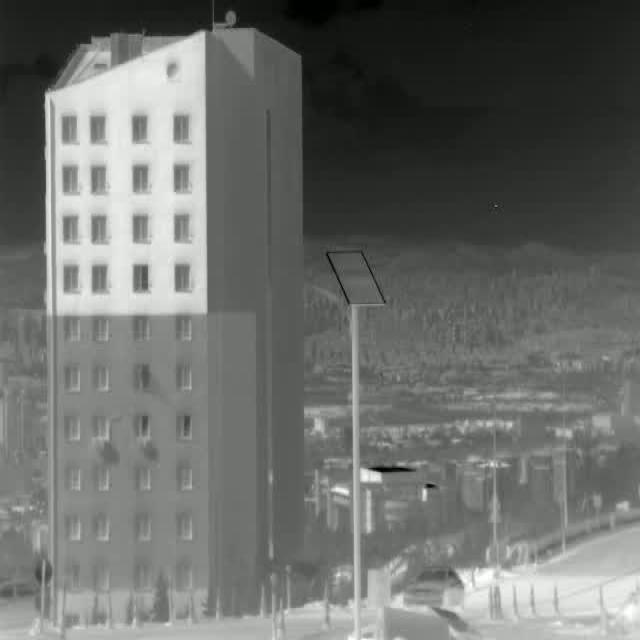Car: (402, 568, 464, 612)
